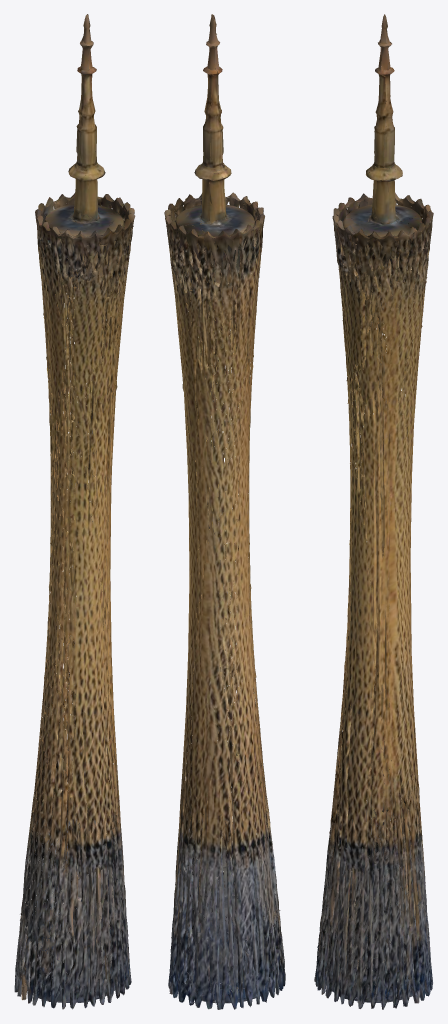
File: waist.glb
3 renders of one model, left to right at view 1: azimuth 30°, elevation 25°; view 2: azimuth 210°, elevation 25°; view 3: azimuth 330°, elevation 25°, orthographic.
Parts seen in each view (by area): view 1: node_0; view 2: node_0; view 3: node_0.
Part boxes in pixels (x1,y1,x2,y2): node_0: [14, 14, 135, 1009]; node_0: [164, 14, 285, 1009]; node_0: [314, 14, 433, 1009].
Size of the model in its own units: 0.1372 by 1.19 by 0.1204.
Materials: 1 (1 with a texture image).
